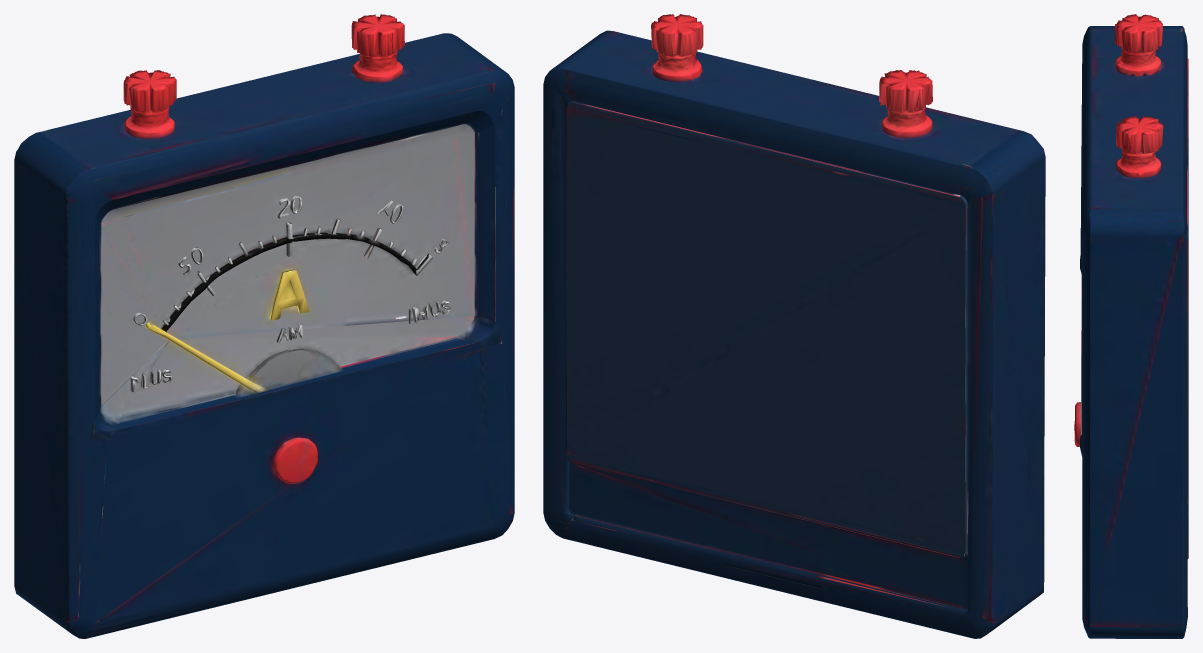
The model's file is ammeter.glb.
3 renders of one model, left to right at view 1: azimuth 30°, elevation 25°; view 2: azimuth 150°, elevation 25°; view 3: azimuth 270°, elevation 25°, orthographic. The views are drawn at different scales.
Bounding box in the file's own units: 0.8667 × 0.9517 × 0.2095.
1 material, 1 textured.
